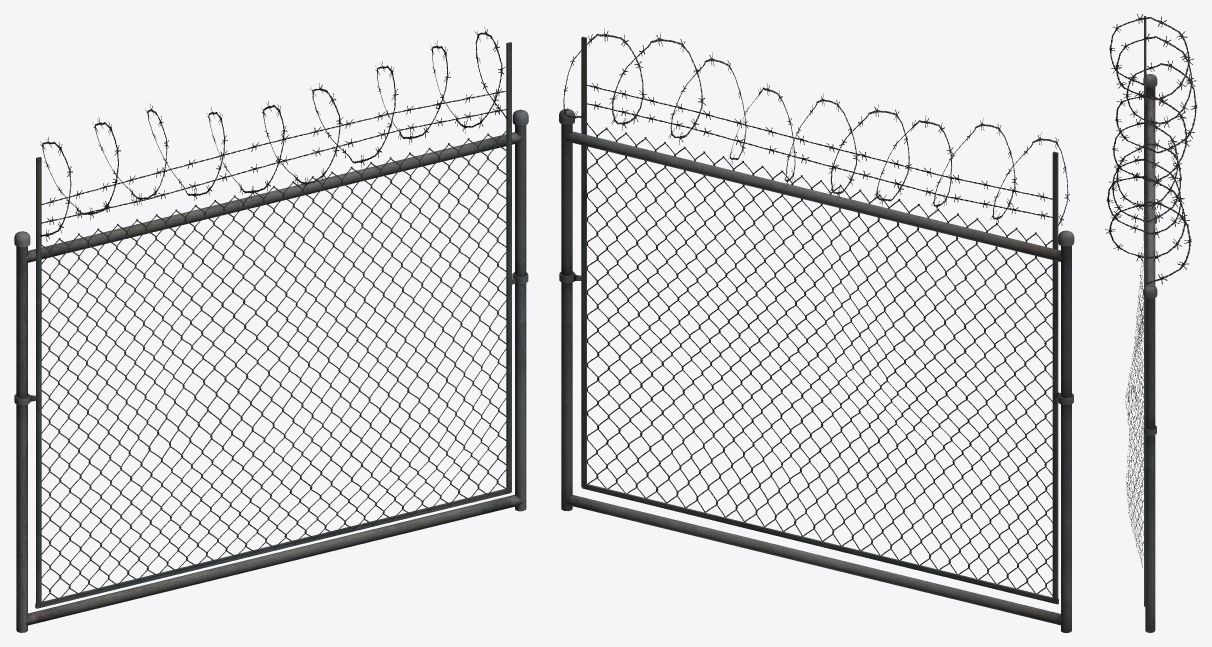
Rendered from chainlink_barbwire-3.FBX.
3 views of the same model, side by side, from view 1: azimuth 30°, elevation 25°; view 2: azimuth 150°, elevation 25°; view 3: azimuth 270°, elevation 25° (orthographic). The views are drawn at different scales.
Visible parts, largest first — view 1: chainlink_barbedwire-3_LOD0; view 2: chainlink_barbedwire-3_LOD0; view 3: chainlink_barbedwire-3_LOD0.
Boxes of the visible parts, left/top/right/bottom form: chainlink_barbedwire-3_LOD0: left=14, top=27, right=528, bottom=632; chainlink_barbedwire-3_LOD0: left=559, top=28, right=1074, bottom=632; chainlink_barbedwire-3_LOD0: left=1105, top=14, right=1197, bottom=632.
Size of what is drawn, in the model's own units: 112 by 102 by 20.32.
